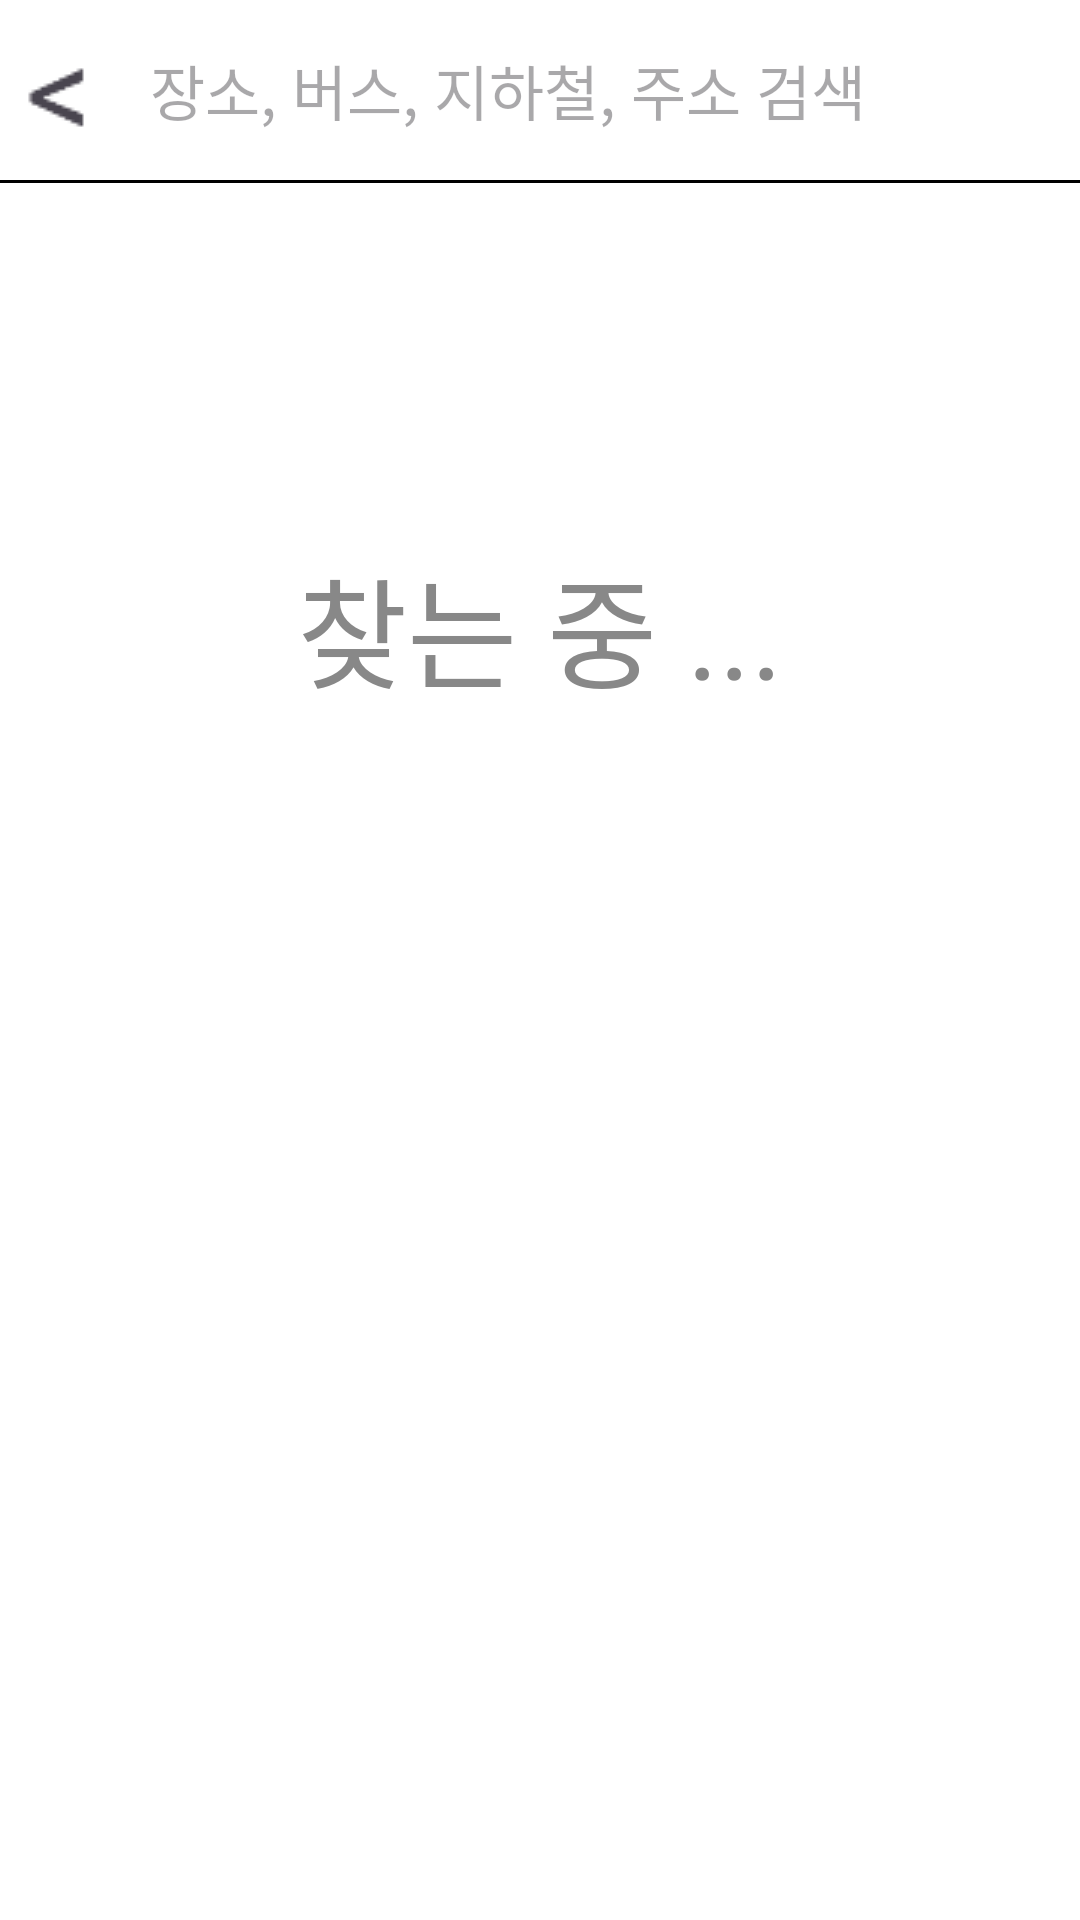

Point at icon controls on the screen. Image size 1080×1920, points as (x=x, y=y).
back: (x=56, y=97)
